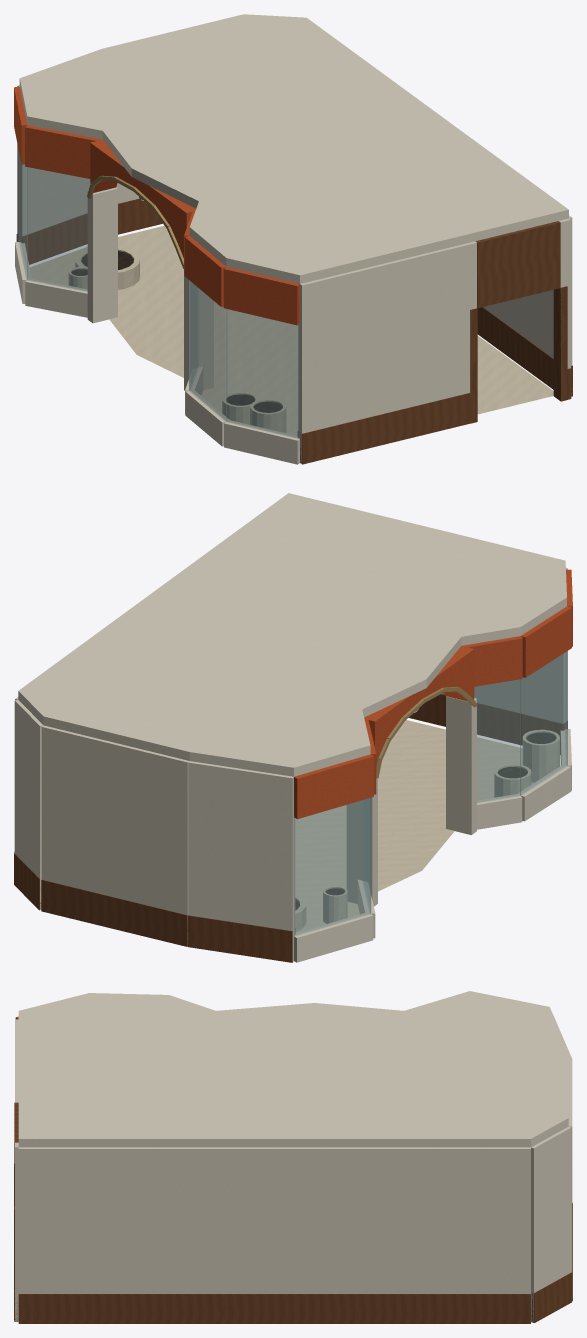
Rendered from AST-RTL-006.glb.
The picture shows the model from 3 angles, top to bottom: view 1: azimuth 30°, elevation 25°; view 2: azimuth 150°, elevation 25°; view 3: azimuth 270°, elevation 25°; orthographic projection. The views are drawn at different scales.
Parts seen in each view (by area): view 1: RTL_static_ivory_enamel, RTL_static_glass, RTL_finish_warm_stone, RTL_static_warm_walnut, RTL_static_orange, RTL_static_warm_stone, RTL_static_botanical_soil, RTL_static_champagne_metal; view 2: RTL_static_ivory_enamel, RTL_static_glass, RTL_finish_warm_stone, RTL_static_warm_walnut, RTL_static_orange, RTL_static_warm_stone, RTL_static_champagne_metal, RTL_static_botanical_soil; view 3: RTL_static_ivory_enamel, RTL_static_warm_walnut.
Part boxes in pixels (box(x1,y1,x2,y2)): RTL_static_ivory_enamel: box(15, 14, 572, 464); RTL_static_glass: box(19, 153, 299, 438); RTL_finish_warm_stone: box(30, 225, 553, 435); RTL_static_warm_walnut: box(16, 198, 572, 464); RTL_static_orange: box(14, 87, 299, 325); RTL_static_warm_stone: box(68, 247, 286, 432); RTL_static_botanical_soil: box(71, 251, 282, 412); RTL_static_champagne_metal: box(87, 175, 183, 268); RTL_static_ivory_enamel: box(14, 493, 571, 962); RTL_static_glass: box(294, 651, 567, 936); RTL_finish_warm_stone: box(295, 720, 533, 932); RTL_static_warm_walnut: box(14, 694, 567, 962); RTL_static_orange: box(294, 569, 572, 819); RTL_static_warm_stone: box(295, 729, 559, 931); RTL_static_champagne_metal: box(376, 686, 477, 778); RTL_static_botanical_soil: box(295, 732, 556, 910); RTL_static_ivory_enamel: box(15, 991, 572, 1322); RTL_static_warm_walnut: box(14, 1102, 572, 1323).
Bounding box in the file's own units: 7.65 × 4.3 × 11.89.
Materials: 8 (6 with a texture image).
